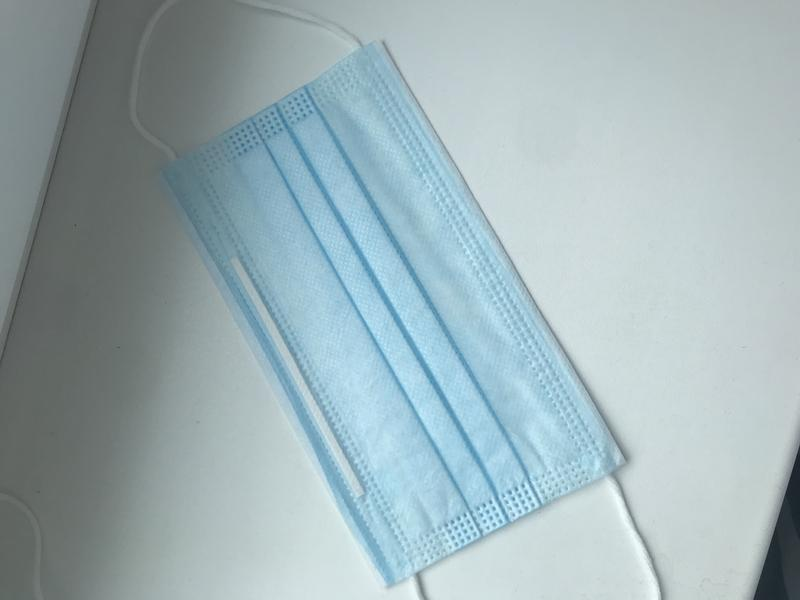medical_mask: (125, 1, 661, 600)
